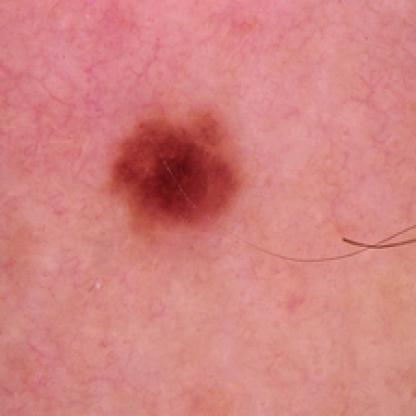benign: (111, 119, 249, 223)
